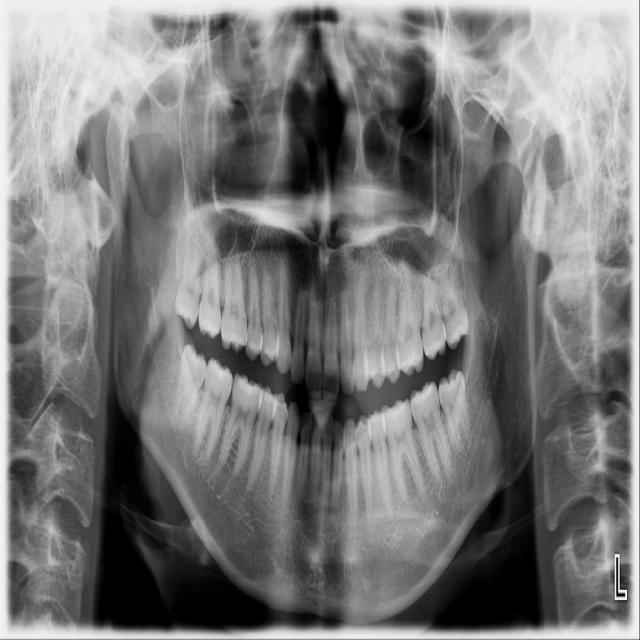impacted tooth: (171, 344, 209, 430), (438, 372, 472, 457)
